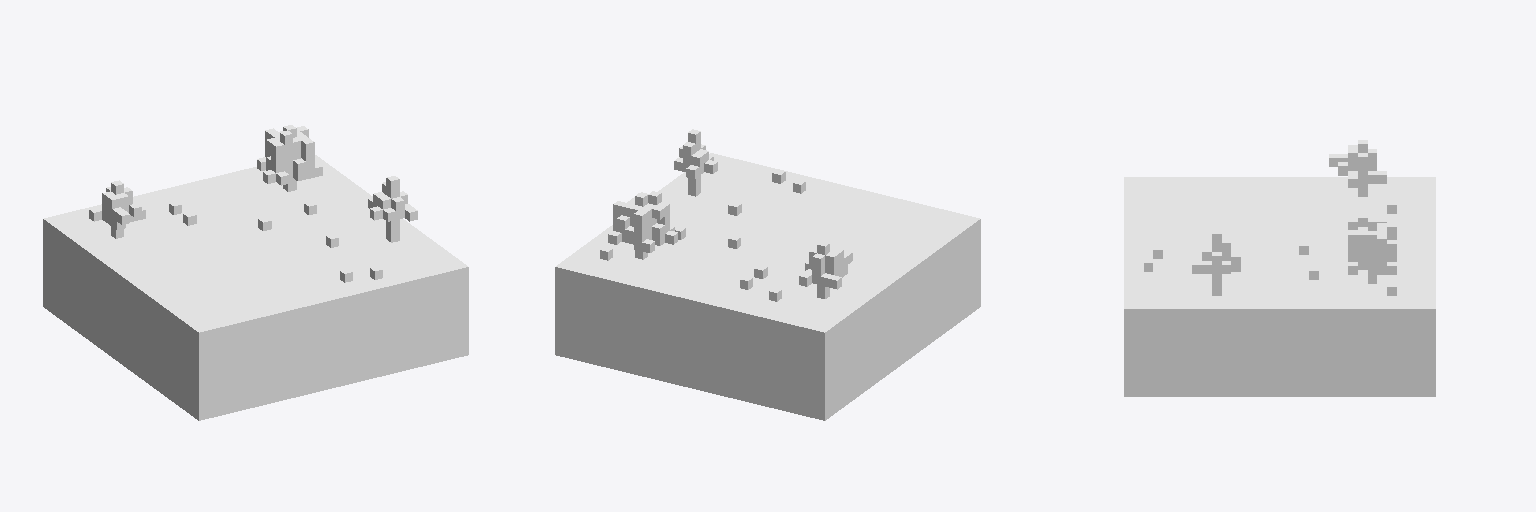
The model's file is Overworld_Beach_02.obj.
The picture shows the model from 3 angles: view 1: azimuth 30°, elevation 25°; view 2: azimuth 150°, elevation 25°; view 3: azimuth 270°, elevation 25°; orthographic projection.
Parts seen in each view (by area): view 1: object 1; view 2: object 1; view 3: object 1.
Part boxes in pixels (bbox=[...]): object 1: bbox=[43, 125, 468, 420]; object 1: bbox=[555, 129, 980, 420]; object 1: bbox=[1124, 140, 1435, 396].
Bounding box in the file's own units: 3.2 × 1.7 × 3.2.